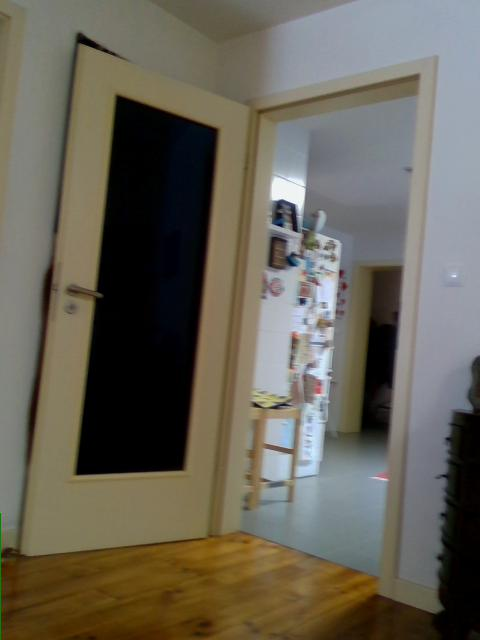open_door: (204, 54, 437, 594)
